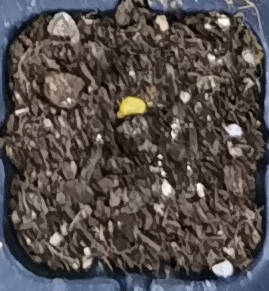pepper seed: (40, 36, 189, 154)
